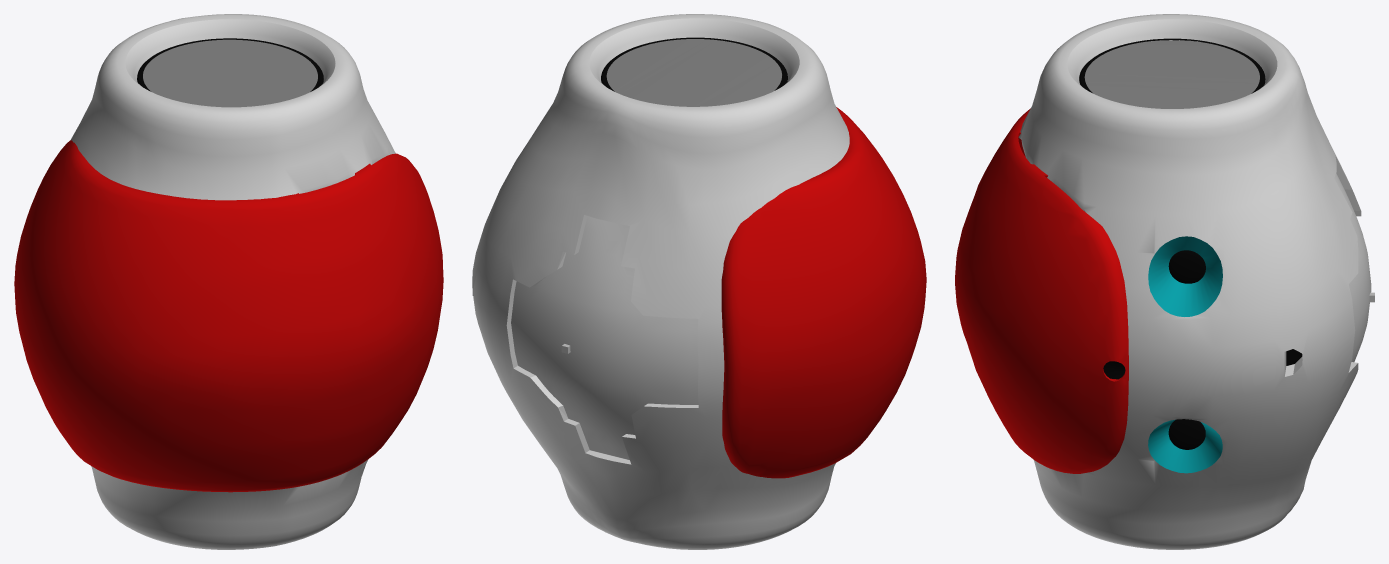
Rendered from HeadPitch.dae.
3 renders of one model, left to right at view 1: azimuth 30°, elevation 25°; view 2: azimuth 150°, elevation 25°; view 3: azimuth 270°, elevation 25°, orthographic.
Visible parts, largest first — view 1: Head; view 2: Head; view 3: Head.
Boxes of the visible parts, <box> form: Head: <box>14,14,443,549</box>; Head: <box>472,14,926,549</box>; Head: <box>955,14,1371,549</box>.
Size of the model in its own units: 120 by 115 by 133.
